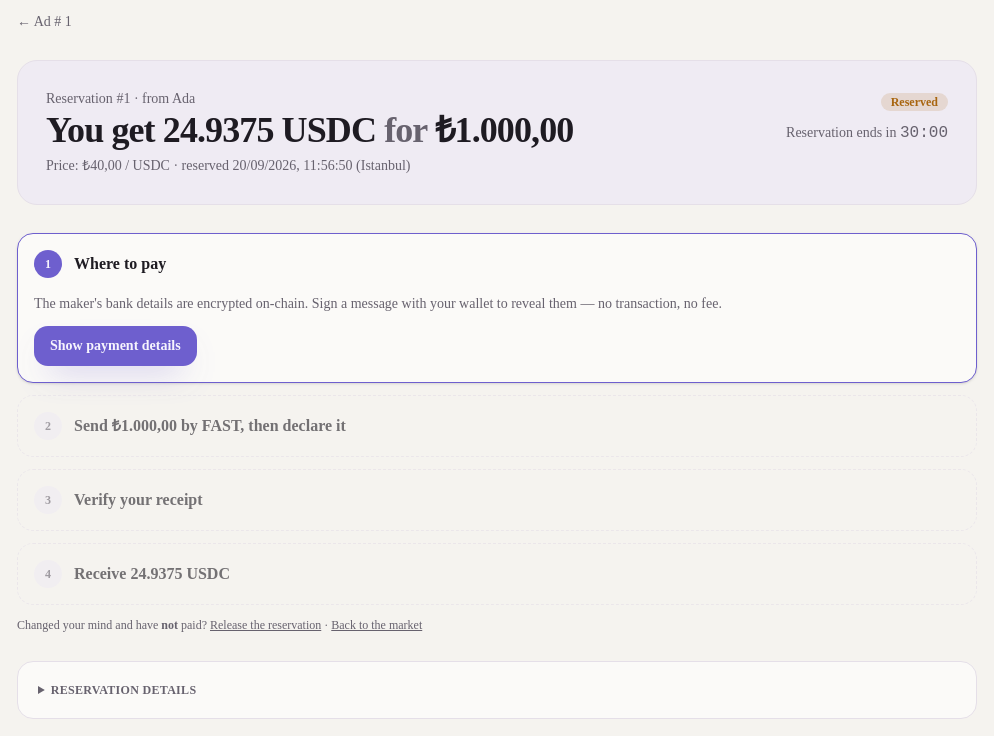
Scenario: receipt and trade recovery › does not show payment controls for mismatched payee
Click the button "Show payment details" at x=115, y=346, box [34,326,197,366]
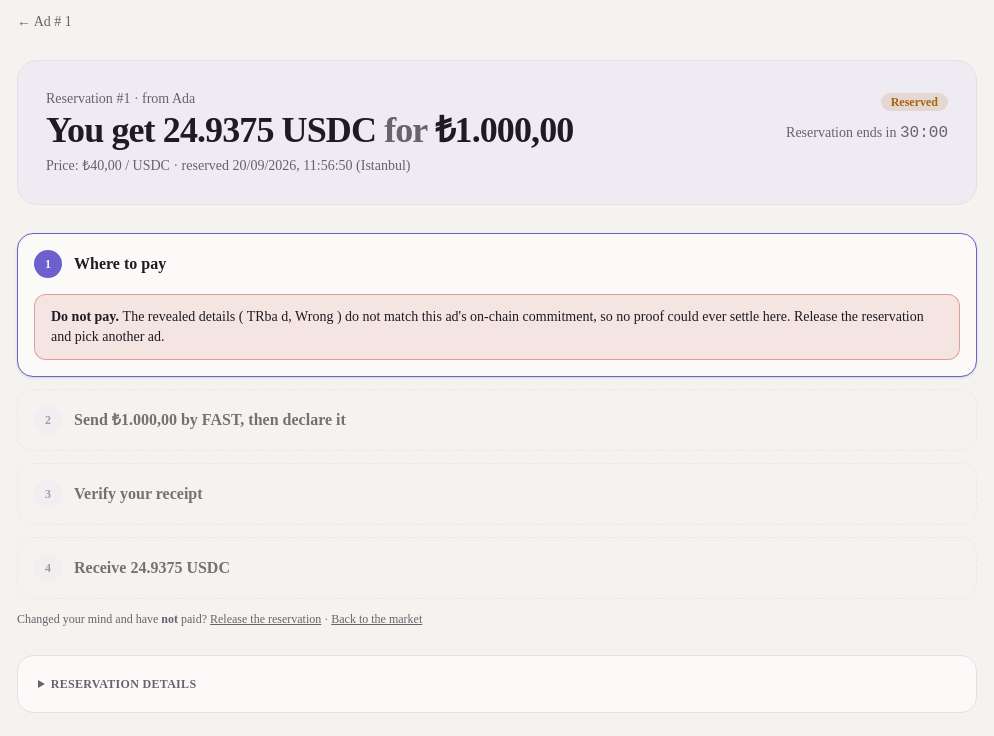
Expected: the text "Do not pay." is shown, [51,309,123,324]
